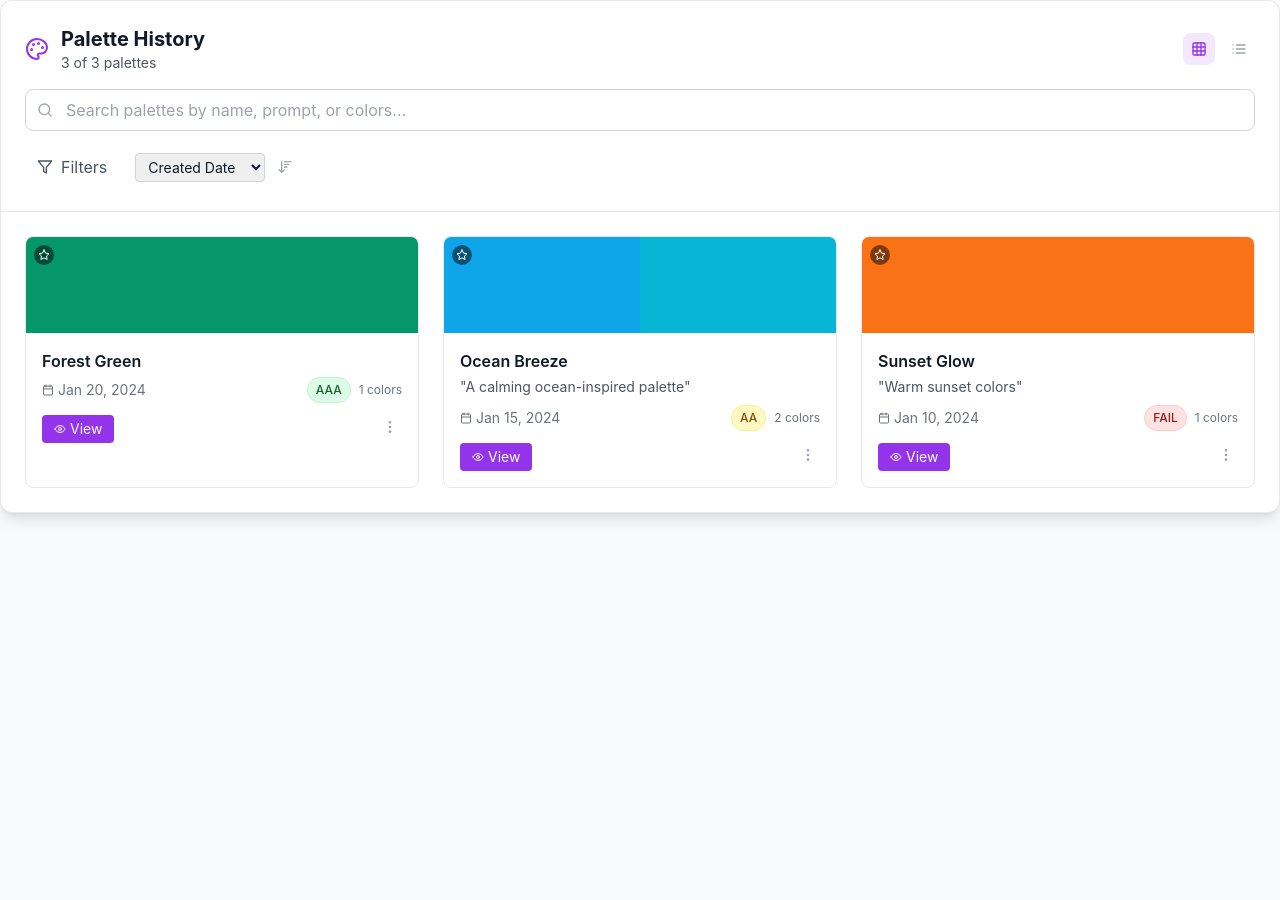
Test: HistoryPanel › Filter Functionality › filters by color count
Note: Open filters
Click the button "Filters".
click(72, 167)  # box [25,147,119,187]
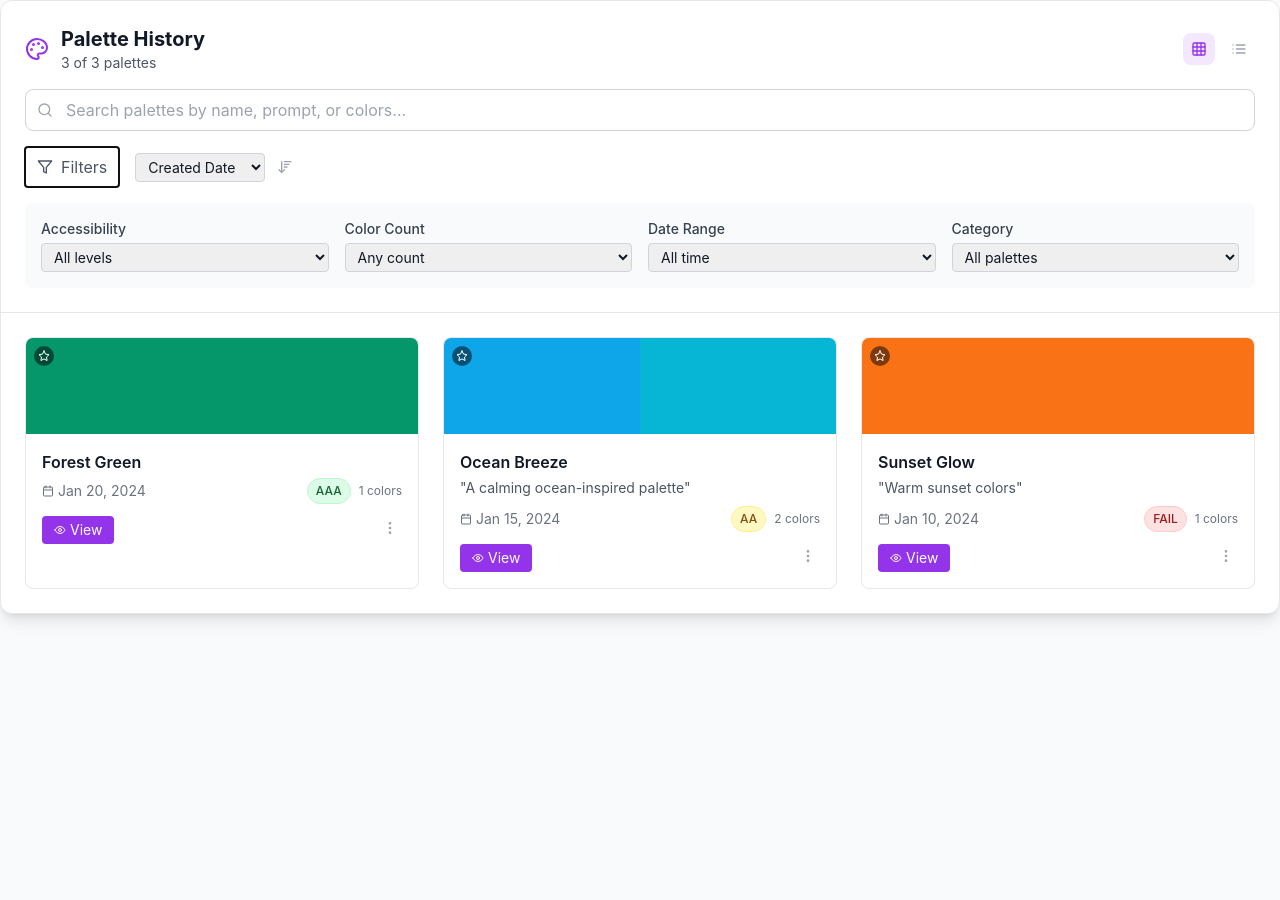
Note: Filter by 3-5 colors (should show palettes with 1-2 colors in our test data)
Select "3-5 colors" in the dropdown showing "Any count" below "Color Count" at x=488, y=258, box [344,243,632,272]
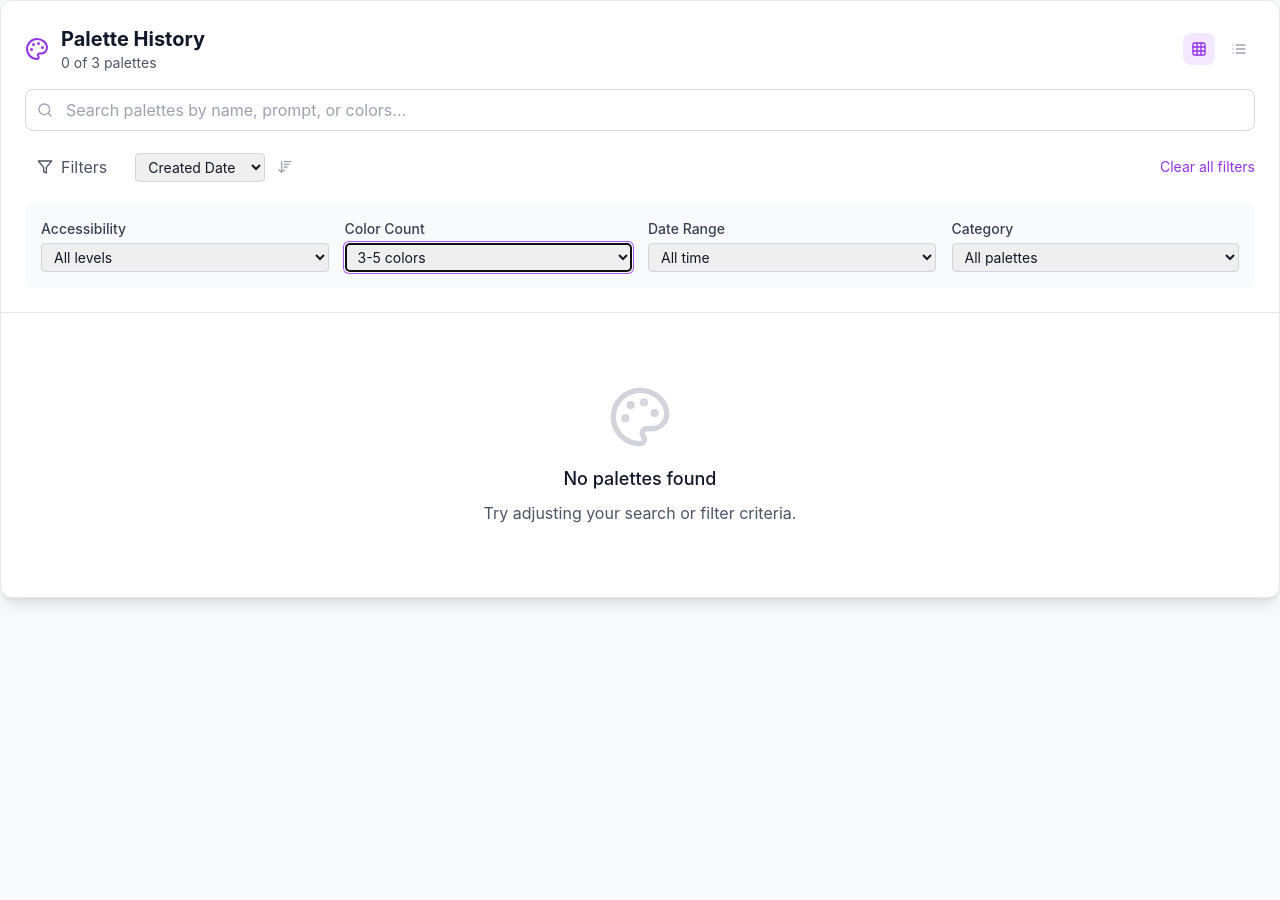
Now the heading "No palettes found" is shown, box [564,468,716,489]
